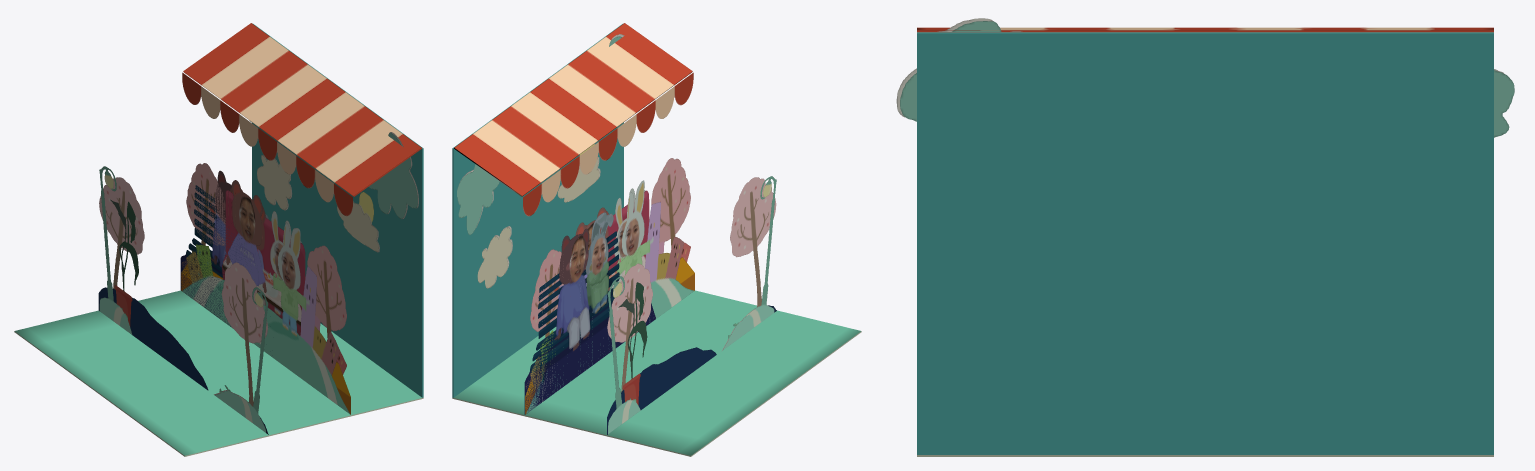
The model's file is popup_book.glb.
The picture shows the model from 3 angles, left to right: view 1: azimuth 30°, elevation 25°; view 2: azimuth 150°, elevation 25°; view 3: azimuth 270°, elevation 25°; orthographic projection. The views are drawn at different scales.
Parts seen in each view (by area): view 1: floor_01, ceil_01, ceil_stripetent, main_01, front_04, main_04, back_01, ceil_stripetent_tail, main_02, main_03, front_01, front_03 (+2 smaller); view 2: floor_01, ceil_01, ceil_stripetent, main_03, main_01, front_04, back_01, main_04, ceil_stripetent_tail, front_01, front_03, main_02 (+1 smaller); view 3: ceil_01, ceil_stripetent, back_01, floor_01.
Boxes of the visible parts, x1,y1,x2,y2 form: floor_01: (14,290,423,456); ceil_01: (252,24,423,397); ceil_stripetent: (183,23,421,196); main_01: (182,180,349,413); front_04: (99,177,267,406); main_04: (182,163,346,374); back_01: (249,120,417,251); ceil_stripetent_tail: (182,72,352,216); main_02: (181,189,350,414); main_03: (180,170,272,326); front_01: (99,166,268,432); front_03: (98,287,268,434); floor_01: (452,290,861,456); ceil_01: (452,24,623,397); ceil_stripetent: (454,23,692,196); main_03: (524,212,655,414); main_01: (526,180,693,413); front_04: (607,177,776,391); back_01: (457,36,621,288); main_04: (526,158,690,388); ceil_stripetent_tail: (523,72,693,216); front_01: (607,176,776,433); front_03: (607,305,776,434); main_02: (525,188,694,414); ceil_01: (917,32,1493,454); ceil_stripetent: (917,27,1493,32); back_01: (900,21,1514,137); floor_01: (917,455,1493,456).
Size of the model in its own units: 6.66 by 6.84 by 9.
13 materials, 9 textured.
